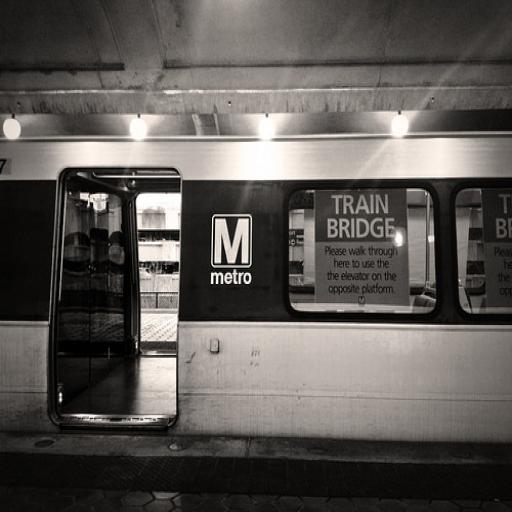platform_edge: (3, 420, 512, 512)
